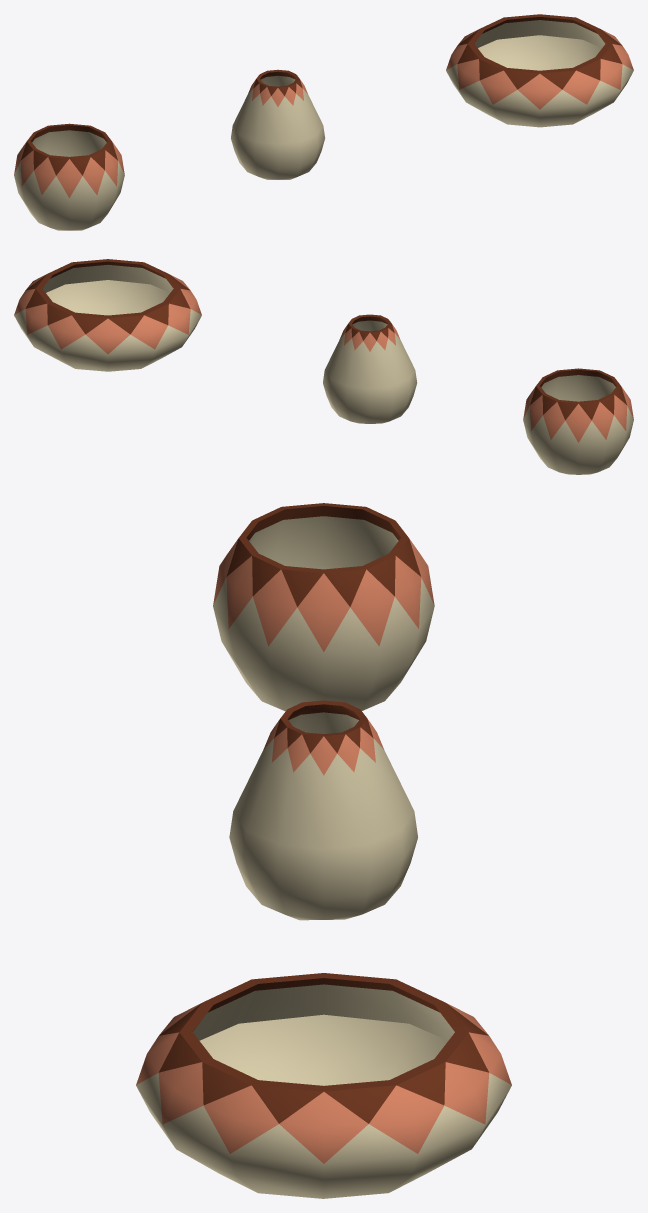
Rendered from JunglePots.fbx.
3 renders of one model, top to bottom at view 1: azimuth 30°, elevation 25°; view 2: azimuth 150°, elevation 25°; view 3: azimuth 270°, elevation 25°, orthographic. The views are drawn at different scales.
Parts seen in each view (by area): view 1: ClayPot03, ClayPot_01, ClayPot02; view 2: ClayPot03, ClayPot_01, ClayPot02; view 3: ClayPot03, ClayPot_01, ClayPot02.
Boxes of the visible parts, x1,y1,x2,y2 form: ClayPot03: [446, 14, 633, 127]; ClayPot_01: [14, 123, 124, 230]; ClayPot02: [231, 69, 325, 179]; ClayPot03: [14, 259, 201, 371]; ClayPot_01: [523, 368, 633, 474]; ClayPot02: [323, 314, 417, 423]; ClayPot03: [136, 973, 511, 1198]; ClayPot_01: [213, 503, 434, 711]; ClayPot02: [229, 700, 417, 920].
Bounding box in the file's own units: 1.26 × 0.1889 × 0.3423.
